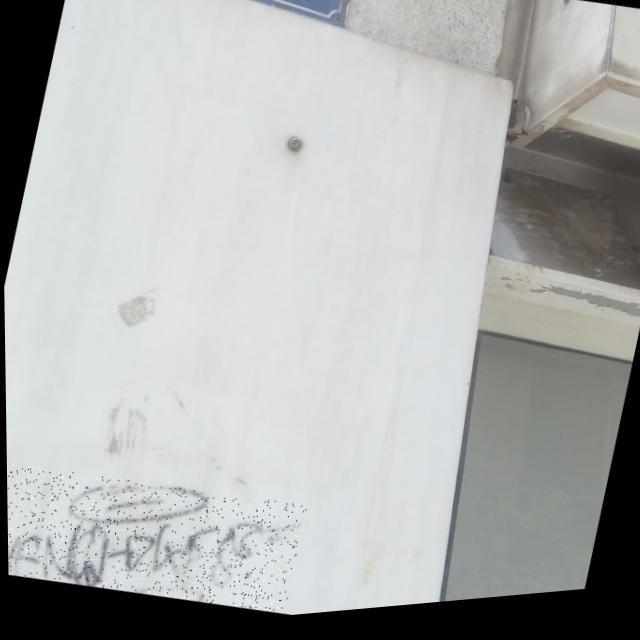-: (5, 432, 306, 637)
